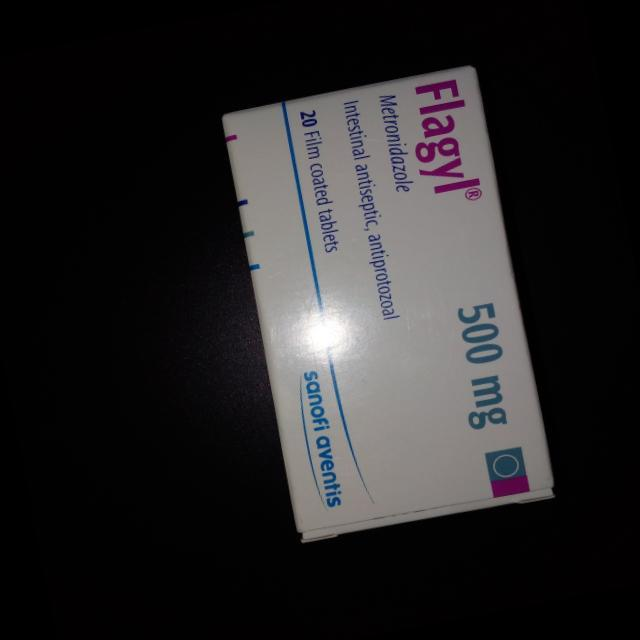Medicine Name: (396, 74, 490, 202)
